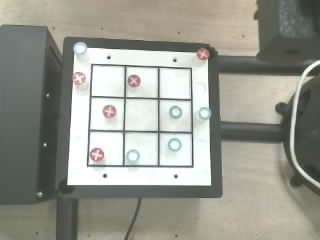blue circle: (73, 42, 87, 55), (126, 149, 139, 163), (168, 138, 181, 151), (169, 105, 182, 118), (199, 107, 211, 119)
board: (68, 42, 212, 185)
cells: (88, 132, 122, 165), (125, 133, 157, 165), (90, 98, 123, 129), (125, 99, 157, 130), (160, 100, 191, 131), (160, 134, 191, 165), (92, 66, 124, 96), (126, 67, 157, 97), (160, 68, 190, 98)
grid: (87, 64, 193, 167)
red cross: (90, 148, 104, 161), (72, 72, 85, 85), (128, 74, 140, 87), (103, 105, 116, 117), (197, 48, 209, 60)
